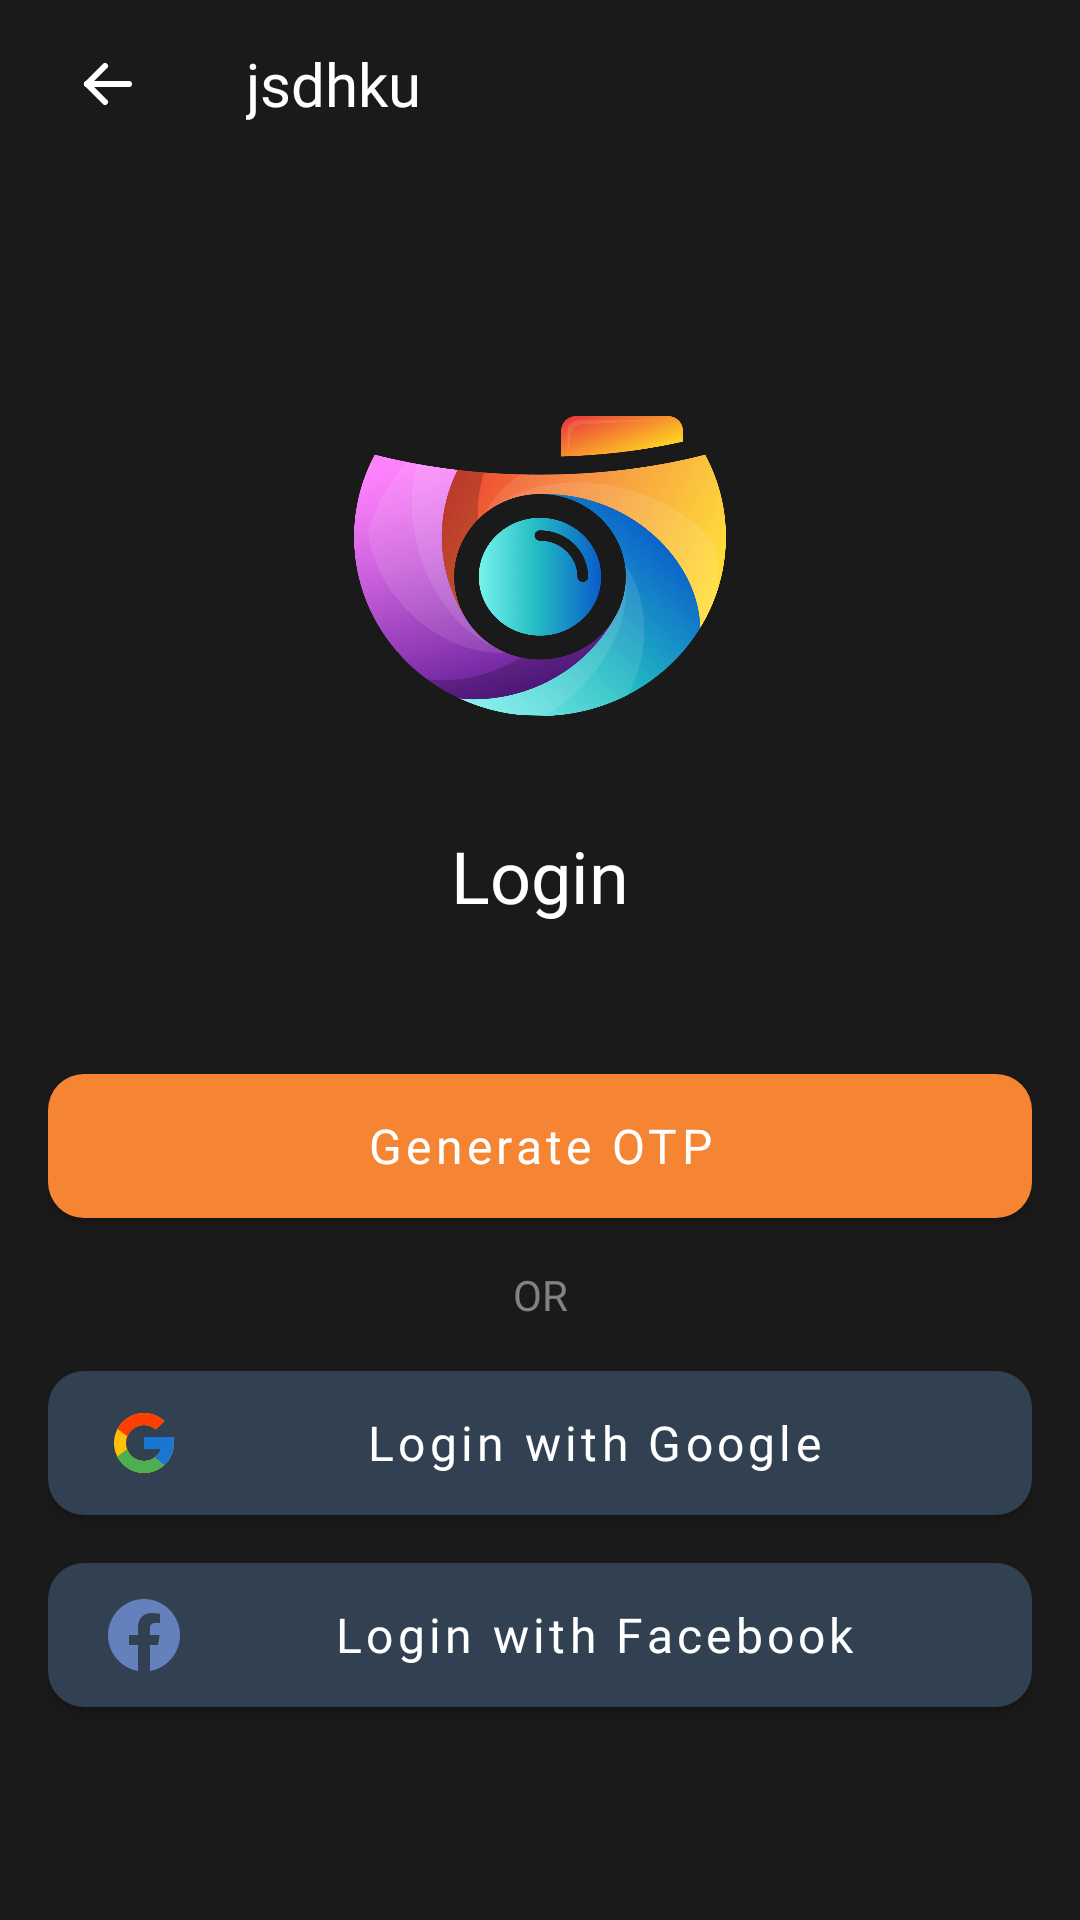

Icon bounding boxes for this 1080 x 1920 phone screenshot, format (x1, y1, x2, y2):
arrow left: (83, 63, 132, 105)
